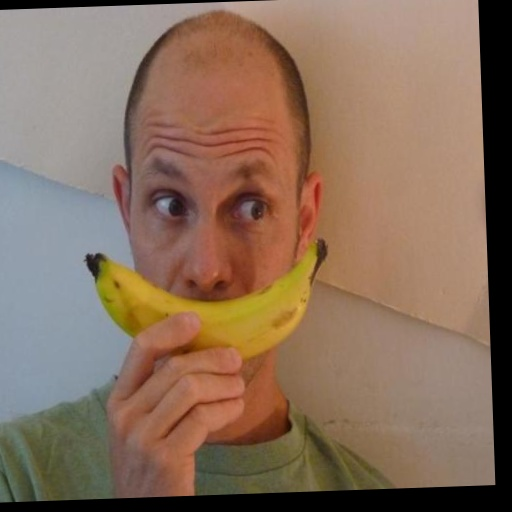fruit: (86, 239, 327, 358)
